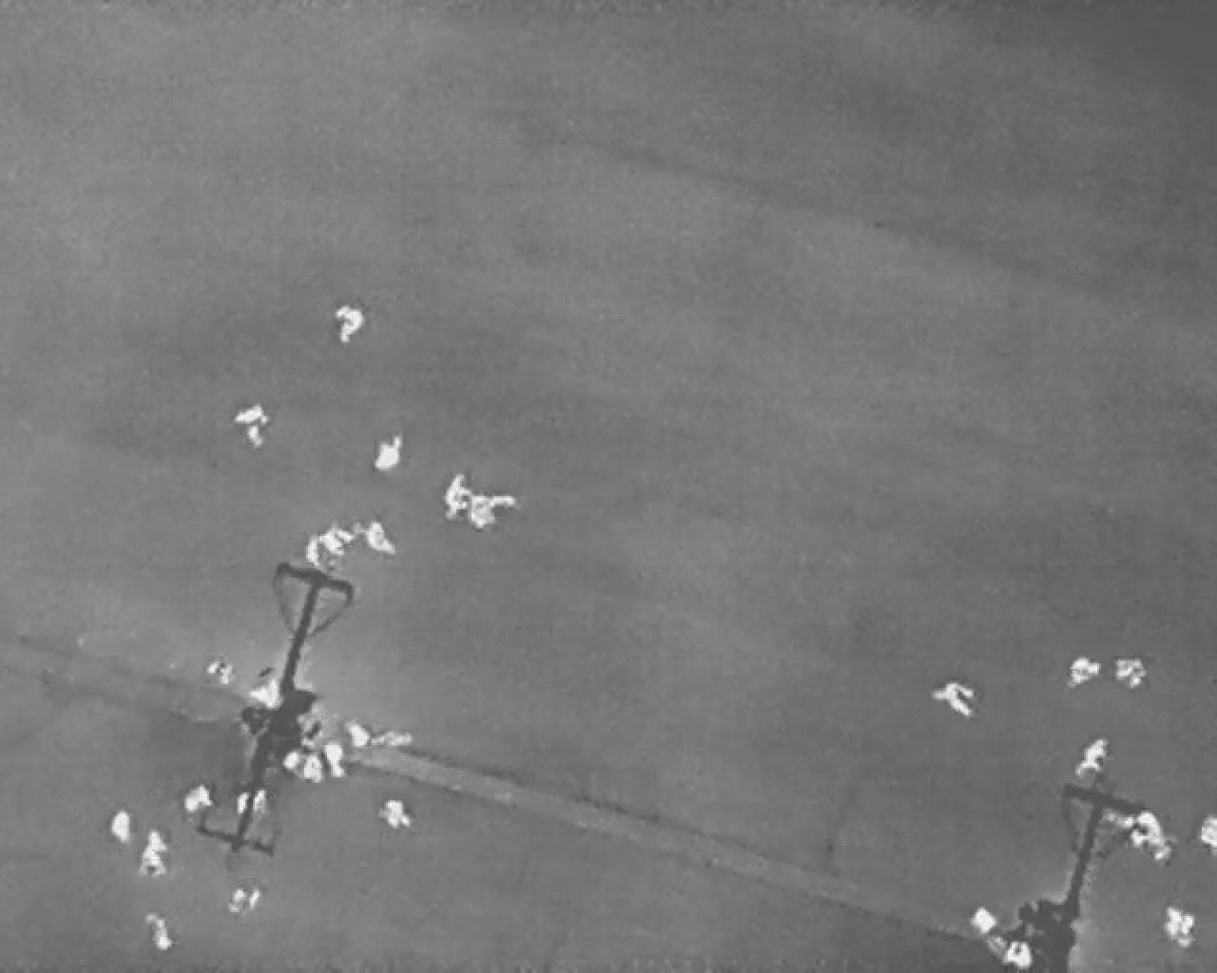person: (467, 491, 518, 531), (929, 679, 980, 719), (1072, 735, 1113, 784), (1134, 805, 1172, 850), (229, 406, 269, 448), (357, 520, 400, 558), (174, 780, 216, 818), (142, 830, 172, 883), (142, 906, 174, 955), (366, 436, 408, 470), (334, 303, 366, 347), (1113, 657, 1151, 691), (250, 668, 282, 708), (107, 809, 136, 850), (376, 801, 415, 831), (322, 525, 355, 560), (235, 790, 273, 820), (444, 472, 467, 516), (301, 533, 328, 569), (1072, 655, 1102, 687), (322, 742, 347, 778), (969, 902, 995, 936), (204, 657, 235, 685), (1003, 936, 1030, 968), (229, 890, 263, 915), (1197, 812, 1217, 850), (345, 719, 370, 746), (305, 754, 326, 786), (1178, 917, 1199, 947), (1165, 904, 1182, 940), (282, 748, 299, 778), (1125, 828, 1148, 850), (1149, 849, 1176, 866)
